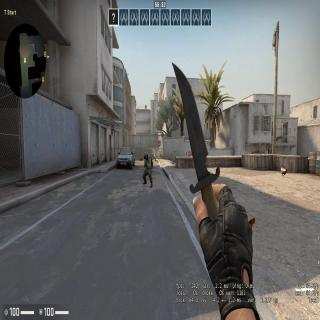CT-Body: (144, 151, 152, 183)
CT-Head: (145, 154, 148, 158)
